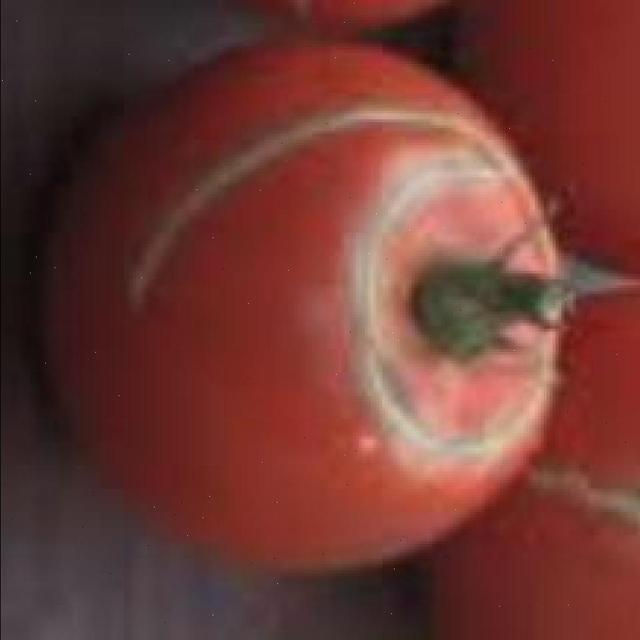Cracking Fruit: (143, 133, 305, 260)
